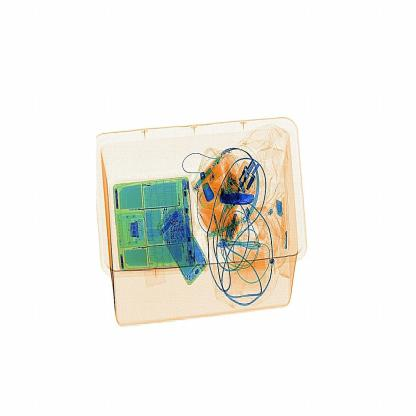knife: (216, 186, 263, 216)
